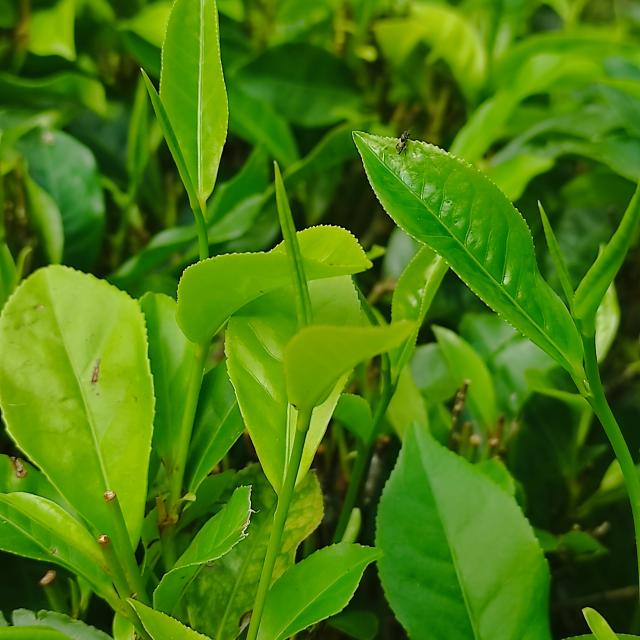unopened_leaf: (264, 152, 326, 336), (135, 61, 206, 219), (531, 194, 587, 325), (347, 274, 398, 393)
